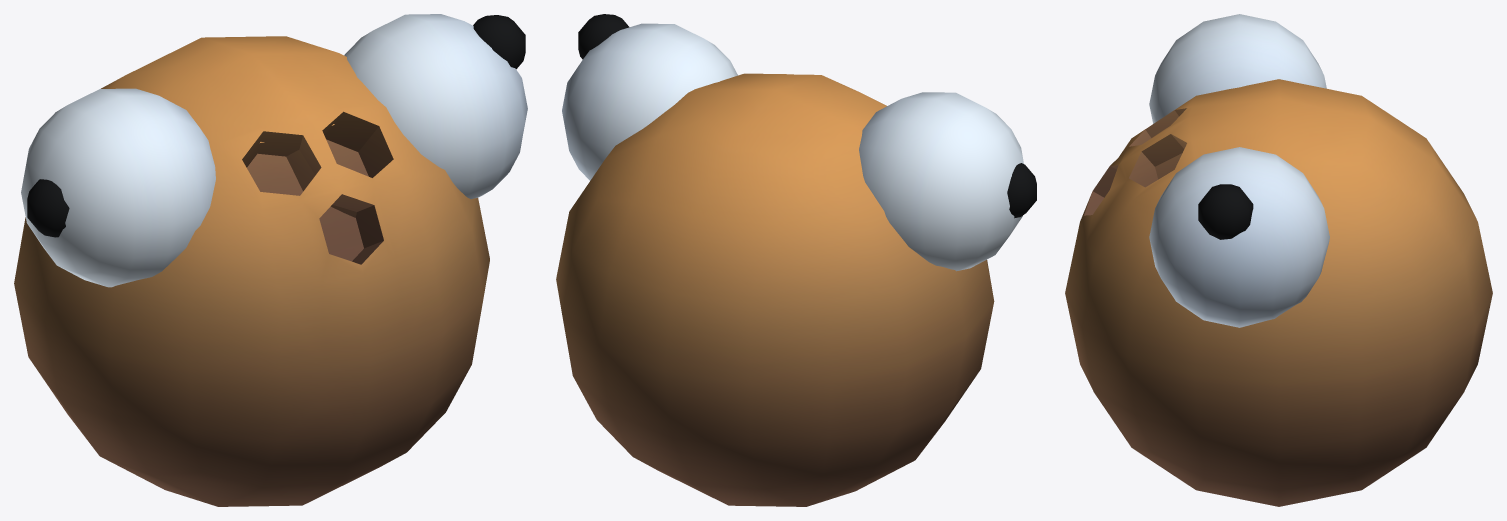
Rendered from Msh_CocoSinalterar.fbx.
3 views of the same model, side by side, from view 1: azimuth 30°, elevation 25°; view 2: azimuth 150°, elevation 25°; view 3: azimuth 270°, elevation 25° (orthographic). The views are drawn at different scales.
Visible parts, largest first — view 1: Msh_Coco_Body, Msh_Coco_Reye, Msh_Coco_Leye, Msh_Coco_Rpupil, Msh_Coco_Lpupil; view 2: Msh_Coco_Body, Msh_Coco_Reye, Msh_Coco_Leye, Msh_Coco_Rpupil, Msh_Coco_Lpupil; view 3: Msh_Coco_Body, Msh_Coco_Leye, Msh_Coco_Reye, Msh_Coco_Lpupil.
Part boxes in pixels (bbox=[...]): Msh_Coco_Body: bbox=[14, 36, 489, 506]; Msh_Coco_Reye: bbox=[21, 88, 215, 287]; Msh_Coco_Leye: bbox=[344, 14, 527, 199]; Msh_Coco_Rpupil: bbox=[27, 179, 69, 237]; Msh_Coco_Lpupil: bbox=[473, 15, 525, 69]; Msh_Coco_Body: bbox=[556, 73, 994, 506]; Msh_Coco_Reye: bbox=[859, 92, 1023, 271]; Msh_Coco_Leye: bbox=[562, 23, 737, 180]; Msh_Coco_Rpupil: bbox=[1007, 163, 1036, 218]; Msh_Coco_Lpupil: bbox=[578, 14, 629, 59]; Msh_Coco_Body: bbox=[1065, 79, 1492, 506]; Msh_Coco_Leye: bbox=[1149, 147, 1329, 327]; Msh_Coco_Reye: bbox=[1149, 14, 1326, 123]; Msh_Coco_Lpupil: bbox=[1198, 184, 1253, 239].
Size of the model in its own units: 57.17 by 49.67 by 48.38.
